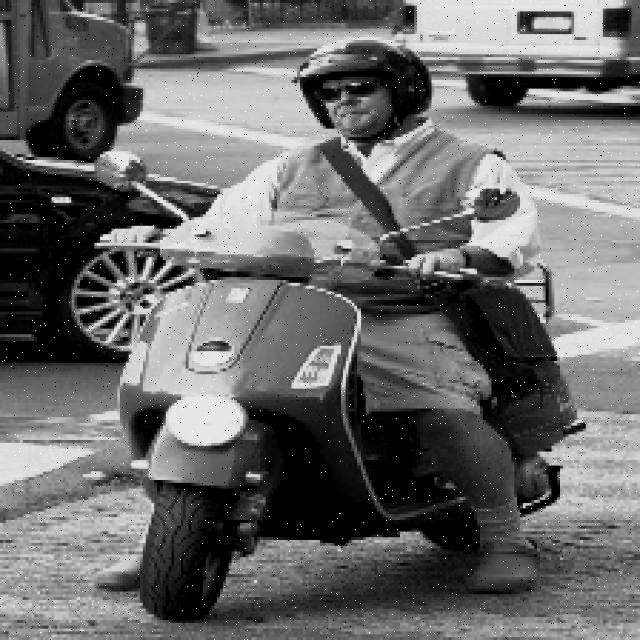Bike: (119, 228, 440, 614)
